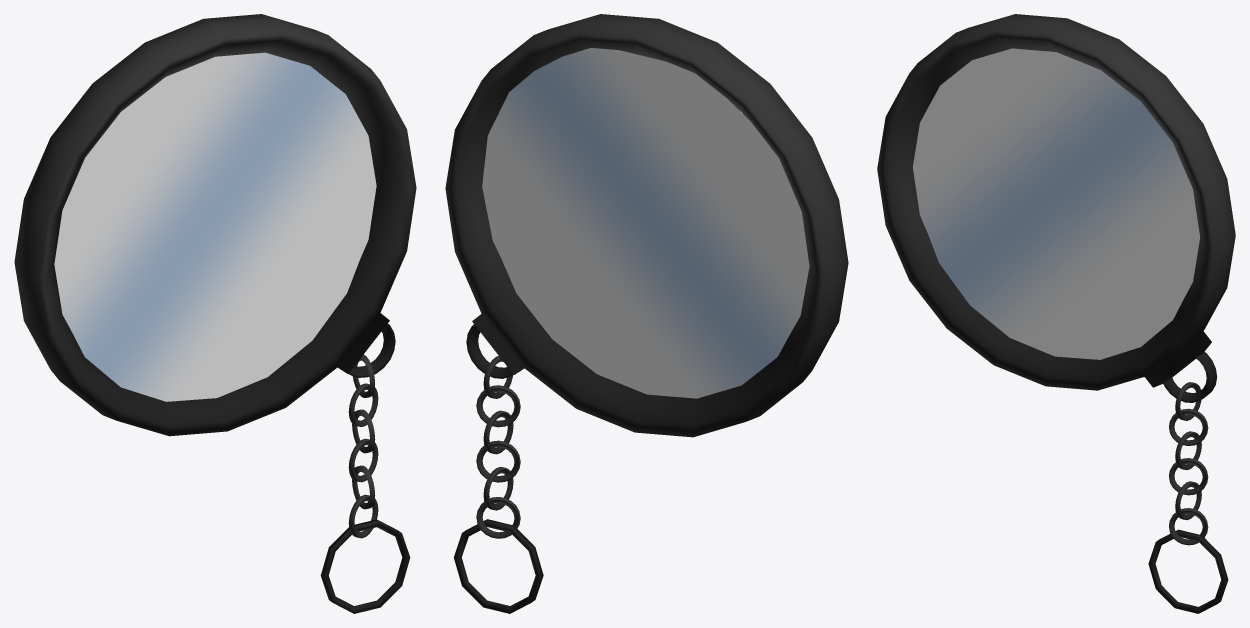
The model's file is EYE_monocle.fbx.
The picture shows the model from 3 angles, left to right: view 1: azimuth 30°, elevation 25°; view 2: azimuth 150°, elevation 25°; view 3: azimuth 330°, elevation 25°; orthographic projection. The views are drawn at different scales.
Parts seen in each view (by area): view 1: monocle_lens, monocle_frame; view 2: monocle_lens, monocle_frame; view 3: monocle_lens, monocle_frame.
Boxes of the visible parts, x1=… form: monocle_lens: x1=54, y1=52, x2=376, y2=401; monocle_frame: x1=14, y1=14, x2=416, y2=613; monocle_lens: x1=482, y1=48, x2=809, y2=398; monocle_frame: x1=445, y1=14, x2=848, y2=613; monocle_lens: x1=912, y1=48, x2=1200, y2=359; monocle_frame: x1=877, y1=14, x2=1235, y2=613.
Size of the model in its own units: 28.23 by 43.54 by 3.09.
1 material, 1 textured.
